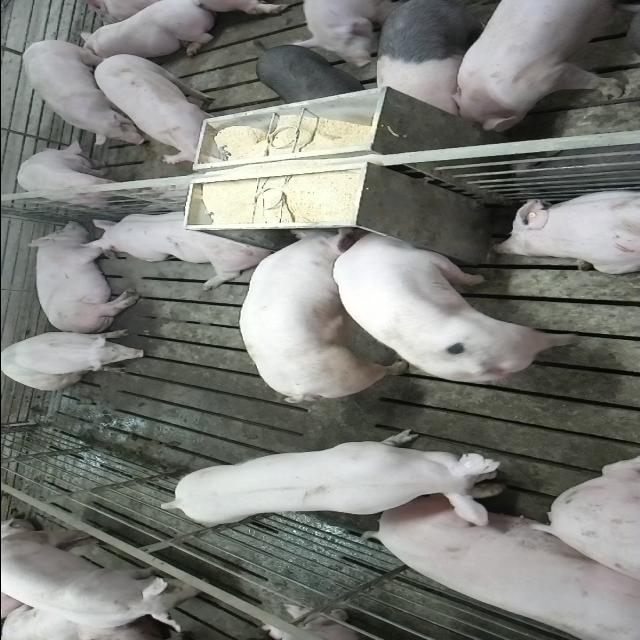Feeding: (328, 221, 578, 379), (241, 225, 413, 405)
Lateral_lying: (22, 222, 140, 334)
Sitting: (0, 329, 148, 390)
Standing: (153, 429, 513, 528), (448, 2, 640, 134), (0, 524, 214, 640), (370, 2, 522, 124), (89, 52, 229, 164), (23, 35, 151, 145), (14, 138, 130, 205), (254, 44, 362, 106)
Sternal_lying: (80, 208, 274, 288), (492, 186, 640, 272), (72, 3, 216, 60)
